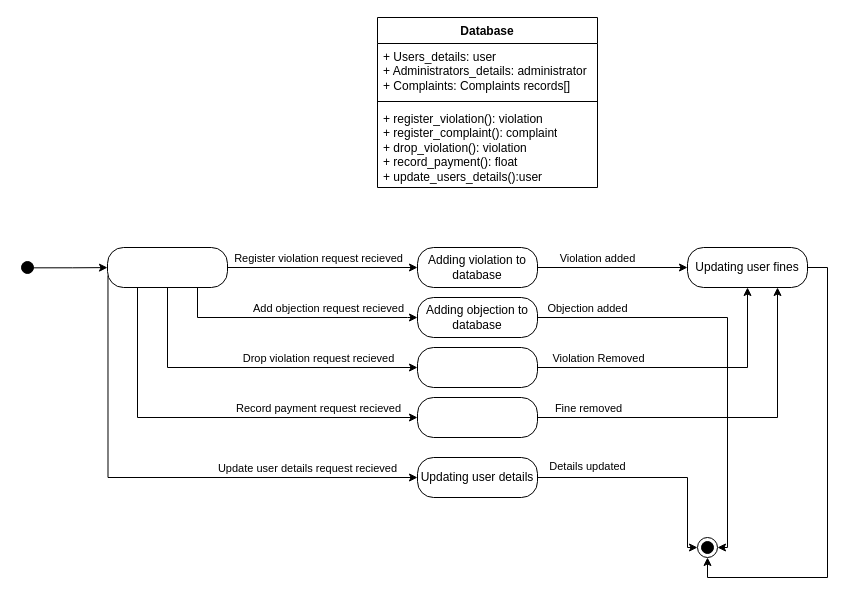
Some shapes in this 853 by 603 pixel diagram are drawn without their labels. The shapes that lost their labels are listed below. From the top down, each one's centre as x and y in pixels, then its label:
At pixel 167 267: "waiting for request".
At pixel 477 367: "Removing violation from database".
At pixel 477 417: "Removing fine from database".
